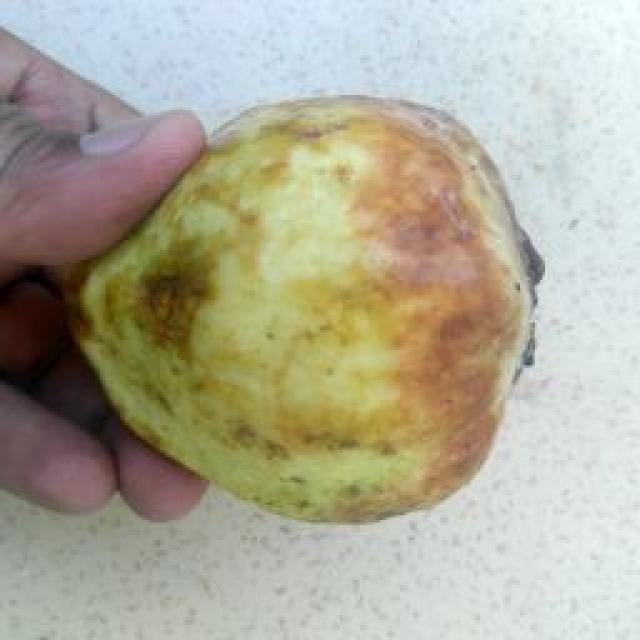Bad_Guava: (70, 96, 541, 521)
